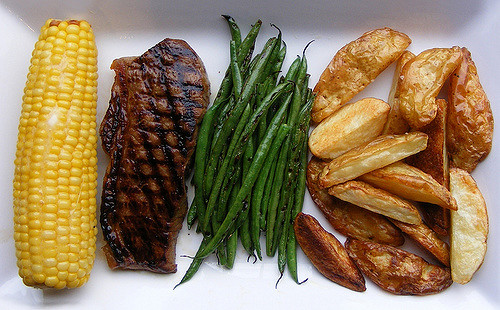boiled peas: (226, 35, 302, 254)
boiled potatoes: (338, 44, 467, 275)
